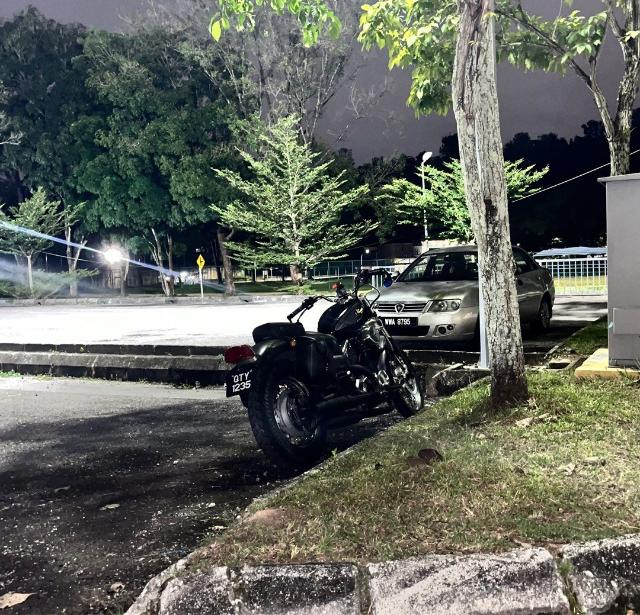License_Plate: (229, 369, 258, 397)
motorcycle: (224, 268, 426, 470)
